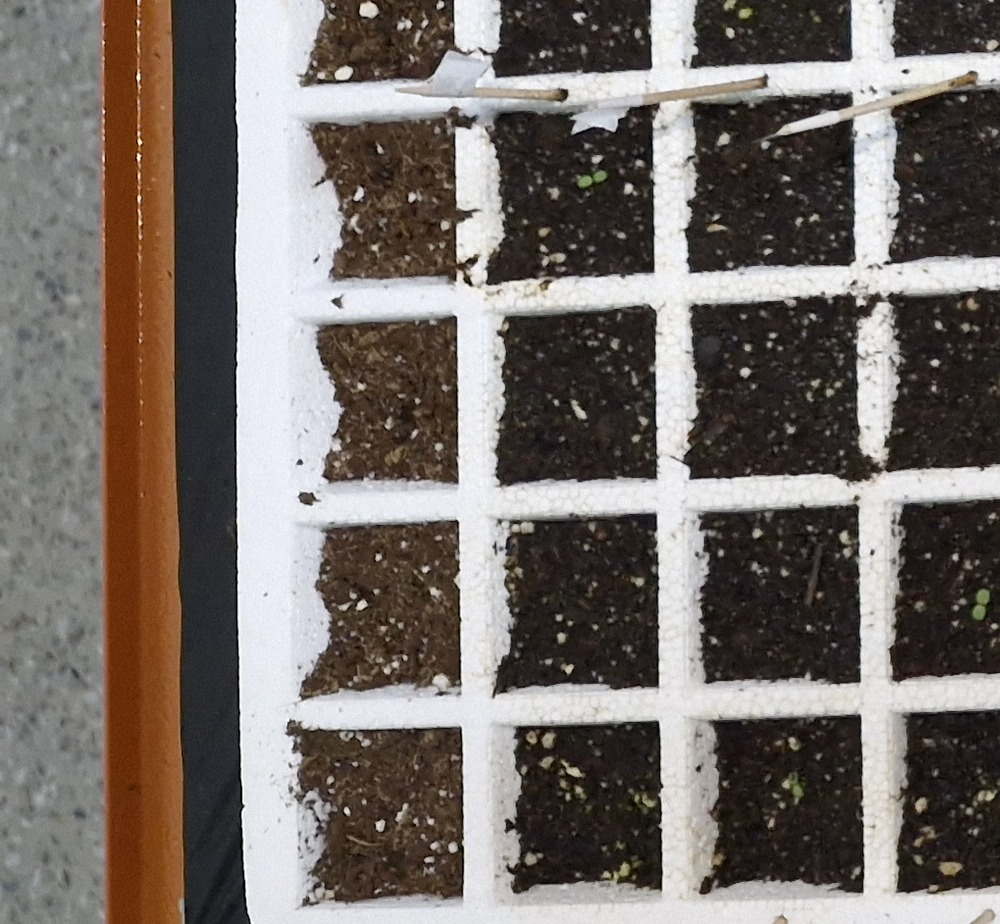Folha: (977, 590, 990, 604), (577, 176, 592, 187), (973, 606, 985, 619), (593, 171, 607, 182), (793, 785, 805, 796), (789, 773, 798, 785)
Germinacao: (972, 589, 990, 621), (578, 170, 607, 187), (788, 772, 805, 797)
